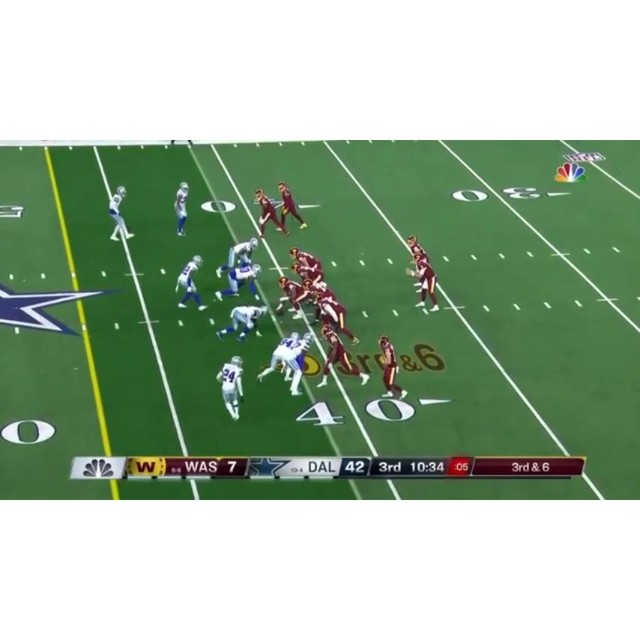american-football-player: (318, 323, 369, 387), (256, 330, 301, 386), (313, 291, 359, 344), (216, 356, 245, 422), (216, 305, 267, 342), (214, 264, 263, 302), (409, 253, 440, 313), (284, 333, 313, 396), (216, 237, 260, 278), (378, 334, 405, 397), (176, 254, 206, 310), (254, 188, 287, 238), (277, 180, 308, 231), (108, 185, 135, 241), (275, 277, 308, 317), (174, 180, 189, 236), (292, 262, 323, 285), (290, 248, 321, 270)
